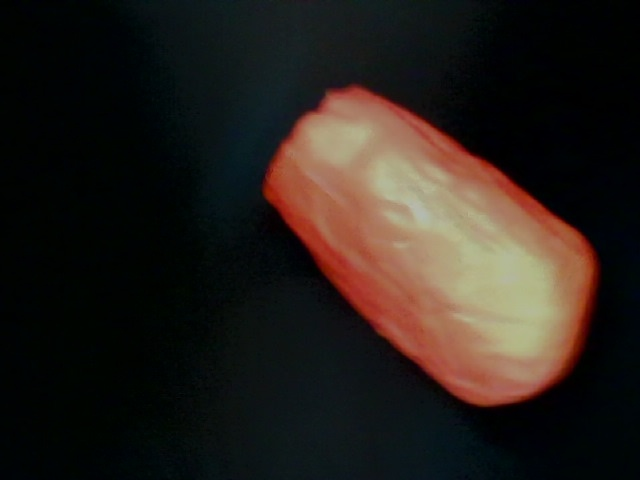CYLJ: (260, 85, 596, 415)
